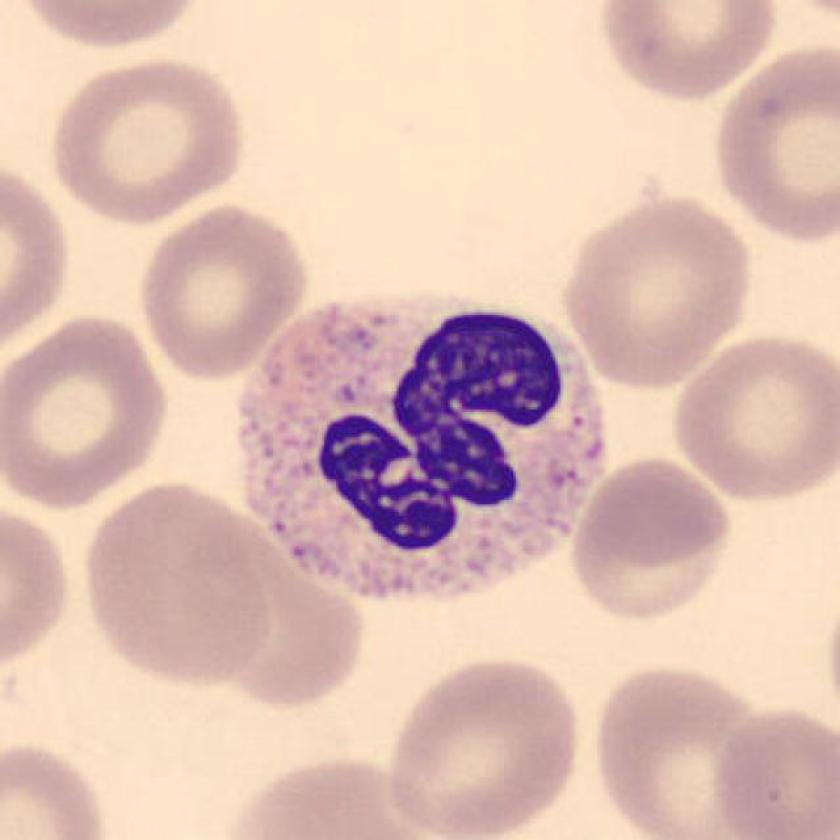neutrophil: (240, 299, 606, 601)
